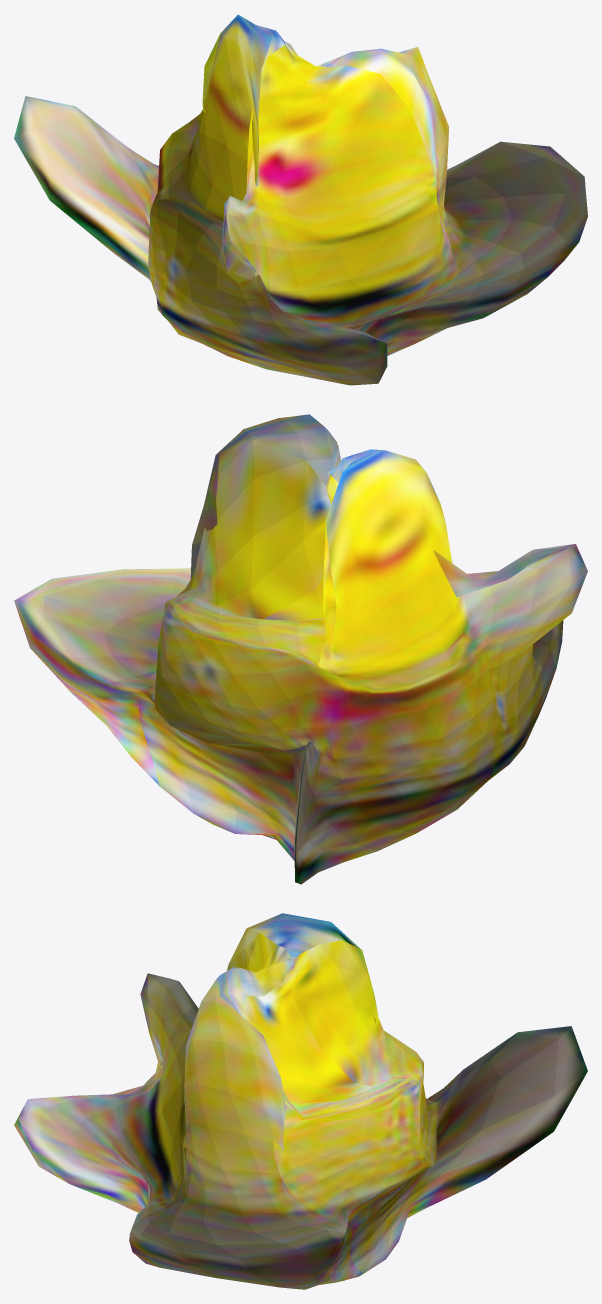
The model's file is rubber_ducky_wearing_a_cowboy_hat.gltf.
The picture shows the model from 3 angles, top to bottom: view 1: azimuth 30°, elevation 25°; view 2: azimuth 150°, elevation 25°; view 3: azimuth 270°, elevation 25°; orthographic projection. The views are drawn at different scales.
Parts seen in each view (by area): view 1: pMesh1; view 2: pMesh1; view 3: pMesh1.
Part boxes in pixels (x1=…): pMesh1: x1=14, y1=14, x2=587, y2=385; pMesh1: x1=14, y1=414, x2=587, y2=884; pMesh1: x1=14, y1=913, x2=587, y2=1289.
Bounding box in the file's own units: 2.64 × 2.05 × 3.28.
1 material, 1 textured.
